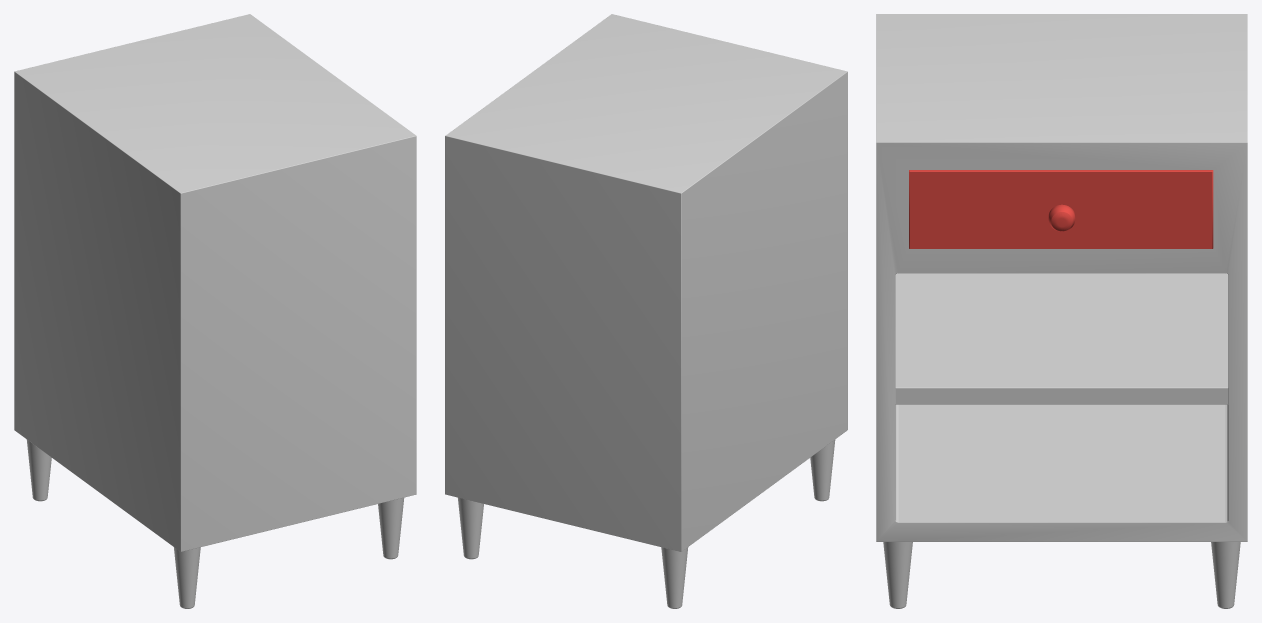
The model's file is NightstandUnwrapped.fbx.
3 renders of one model, left to right at view 1: azimuth 30°, elevation 25°; view 2: azimuth 150°, elevation 25°; view 3: azimuth 270°, elevation 25°, orthographic. The views are drawn at different scales.
Visible parts, largest first — view 1: Nightstand; view 2: Nightstand; view 3: Nightstand, Drawer.
Part boxes in pixels (left/top/right/bottom): Nightstand: left=14, top=14, right=416, bottom=608; Nightstand: left=445, top=14, right=847, bottom=608; Nightstand: left=876, top=14, right=1247, bottom=608; Drawer: left=909, top=170, right=1213, bottom=248.
Bounding box in the file's own units: 791 × 1220 × 869.
